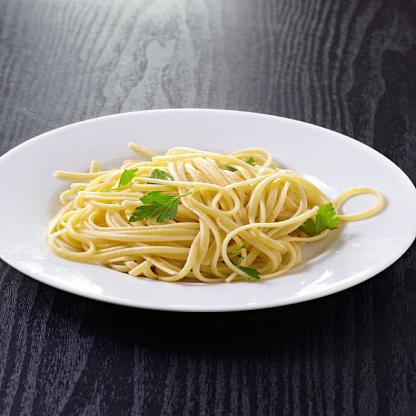Noodles: (45, 143, 386, 283)
